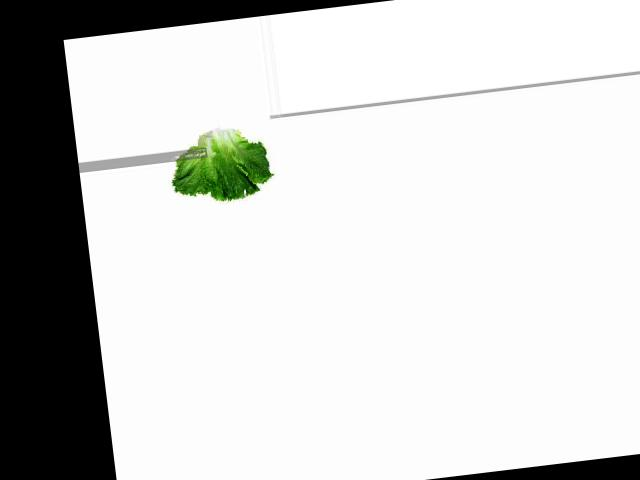lettuce: (170, 122, 274, 205)
